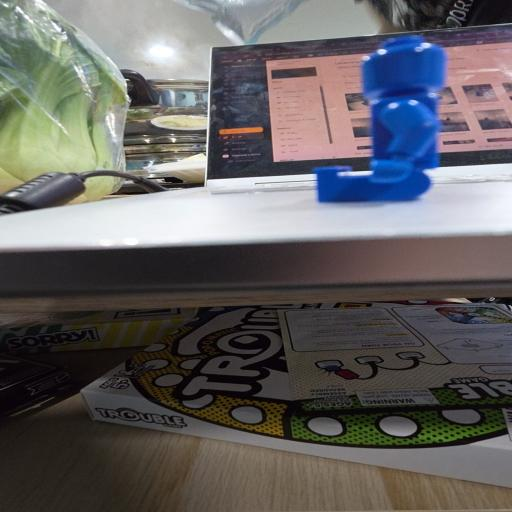Blue: (314, 35, 446, 202)
